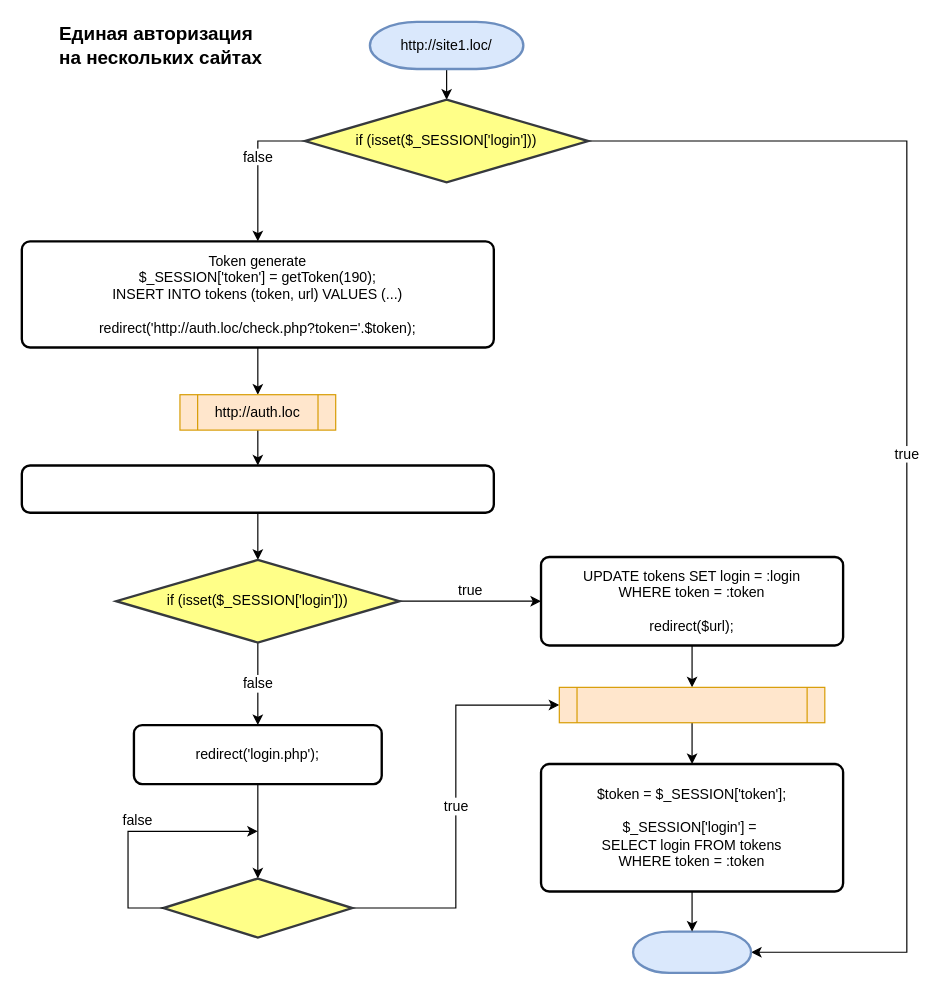
The diagram is 939 pixels wide and 994 high, and some of its shapes have lost their labels. The shapes that lost their labels are listed below. From the top down, each one's box as (x1, y1, x2, y2) in pixels, then its label:
(20, 464, 494, 513): get url from table tokens
(558, 686, 825, 723): http://site1.loc/response.php
(162, 877, 353, 938): if loginned
(631, 930, 752, 974): Well done!
